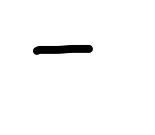minus: (33, 45, 93, 55)
